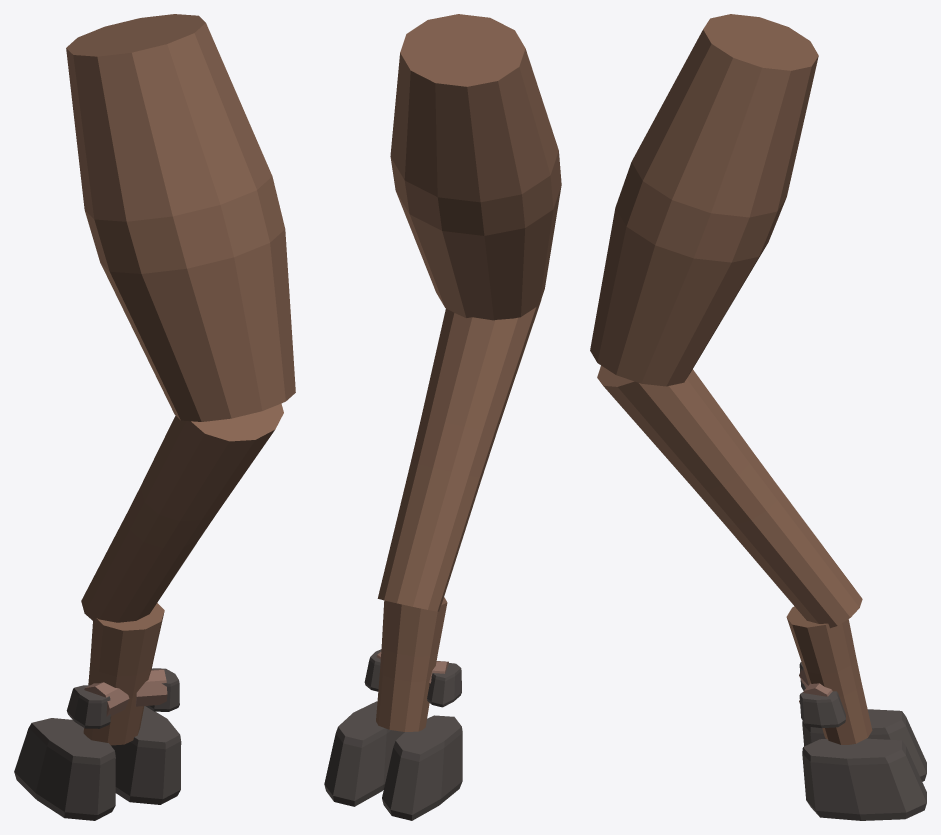
Rendered from FrontR.glb.
3 renders of one model, left to right at view 1: azimuth 30°, elevation 25°; view 2: azimuth 150°, elevation 25°; view 3: azimuth 270°, elevation 25°, orthographic. The views are drawn at different scales.
Parts seen in each view (by area): view 1: FrontRUpper, FrontRLower, FrontRClove0, FrontRPastern, FrontRClove1, FrontRDewclaw2, FrontRDewclawMount3, FrontRDewclawMount2, FrontRDewclaw3; view 2: FrontRUpper, FrontRLower, FrontRPastern, FrontRClove0, FrontRClove1, FrontRDewclaw2, FrontRDewclaw3; view 3: FrontRUpper, FrontRLower, FrontRClove1, FrontRPastern, FrontRClove0, FrontRDewclaw3.
Part boxes in pixels (x1,y1,x2,y2): FrontRUpper: (66, 14, 295, 421); FrontRLower: (81, 403, 283, 622); FrontRClove0: (14, 718, 115, 820); FrontRPastern: (83, 603, 164, 745); FrontRClove1: (111, 706, 181, 804); FrontRDewclaw2: (66, 685, 110, 728); FrontRDewclawMount3: (135, 669, 167, 706); FrontRDewclawMount2: (84, 682, 129, 716); FrontRDewclaw3: (145, 668, 179, 711); FrontRUpper: (390, 14, 561, 320); FrontRLower: (377, 300, 541, 611); FrontRPastern: (376, 597, 447, 731); FrontRClove0: (382, 715, 462, 820); FrontRClove1: (324, 701, 404, 806); FrontRDewclaw2: (427, 663, 461, 707); FrontRDewclaw3: (364, 649, 381, 691); FrontRUpper: (590, 14, 818, 386); FrontRLower: (597, 365, 862, 628); FrontRClove1: (802, 738, 926, 820); FrontRPastern: (786, 606, 872, 744); FrontRClove0: (802, 709, 926, 781); FrontRDewclaw3: (799, 691, 845, 728).
Size of the model in its own units: 0.2769 by 1.24 by 0.502.
